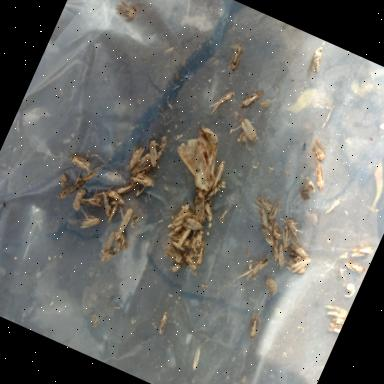pbw: (316, 302, 349, 334), (207, 85, 235, 120), (221, 39, 248, 74), (274, 215, 306, 243), (238, 84, 266, 114), (58, 174, 84, 206), (305, 45, 328, 80), (246, 254, 270, 286), (186, 195, 212, 224), (80, 184, 107, 211), (74, 208, 102, 234), (309, 162, 332, 192), (163, 240, 190, 264), (142, 140, 165, 168), (285, 237, 313, 260), (308, 136, 332, 162), (236, 118, 262, 142), (131, 150, 153, 178), (68, 154, 96, 176), (186, 230, 206, 260), (95, 190, 118, 216), (243, 312, 264, 340), (350, 240, 374, 264), (202, 181, 224, 207), (264, 219, 288, 242), (172, 206, 194, 231), (290, 252, 312, 277), (113, 0, 139, 21), (209, 160, 227, 190), (125, 145, 144, 173), (117, 207, 135, 235), (166, 230, 193, 248), (275, 226, 295, 250), (179, 251, 203, 271), (82, 162, 102, 186), (257, 226, 279, 247), (133, 172, 157, 191), (272, 244, 291, 268), (112, 230, 132, 252), (183, 216, 206, 234), (104, 189, 128, 206), (116, 178, 136, 198), (255, 207, 274, 228), (254, 194, 276, 212), (200, 201, 218, 222), (268, 240, 284, 262), (344, 259, 366, 275), (103, 229, 118, 252), (268, 200, 283, 222), (177, 227, 191, 247), (194, 246, 208, 266), (106, 202, 118, 224), (177, 202, 191, 220), (168, 222, 182, 238), (58, 174, 70, 188)
